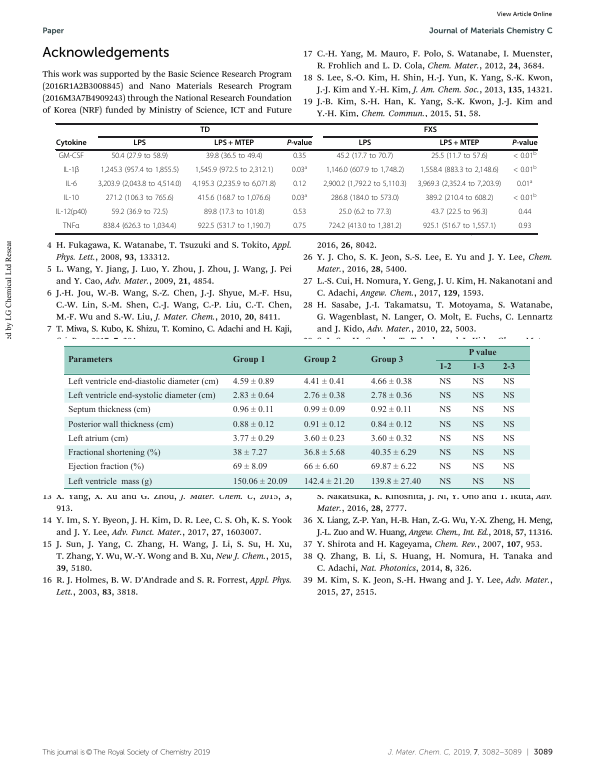borderless: (63, 344, 530, 488), (54, 122, 537, 233)
cell: (66, 377, 219, 387), (66, 391, 216, 401), (66, 420, 174, 430), (66, 448, 161, 458), (66, 405, 151, 416), (191, 180, 277, 190), (322, 180, 408, 190), (66, 477, 152, 487), (66, 462, 144, 473), (97, 180, 182, 190), (417, 180, 502, 190), (100, 166, 180, 176), (194, 166, 274, 176), (325, 166, 405, 176), (419, 166, 499, 176), (197, 194, 272, 204), (102, 222, 177, 232), (197, 222, 272, 232), (327, 222, 402, 232), (422, 222, 497, 232), (105, 194, 175, 204), (330, 194, 400, 204), (424, 194, 494, 204), (203, 208, 265, 218), (66, 434, 128, 444), (110, 152, 169, 162), (430, 152, 489, 162), (110, 208, 169, 218), (430, 208, 489, 218), (205, 152, 263, 162), (336, 152, 394, 162), (232, 477, 288, 487), (338, 208, 392, 218), (370, 462, 417, 473), (303, 477, 354, 487), (370, 477, 421, 487), (370, 448, 417, 458), (232, 405, 274, 416), (303, 405, 345, 416), (370, 405, 412, 416), (67, 356, 113, 366), (213, 139, 255, 149), (232, 377, 274, 387), (303, 377, 345, 387), (370, 377, 412, 387), (232, 391, 274, 401), (303, 391, 345, 401), (370, 391, 412, 401), (232, 420, 274, 430), (303, 420, 345, 430), (370, 420, 412, 430), (232, 434, 274, 444), (303, 434, 345, 444), (370, 434, 412, 444), (303, 448, 345, 458), (439, 139, 480, 149), (232, 462, 268, 473), (303, 462, 339, 473), (232, 448, 268, 458), (369, 356, 404, 366), (232, 356, 266, 366), (303, 356, 337, 366), (55, 208, 88, 218), (55, 139, 87, 149), (467, 349, 497, 359), (512, 151, 537, 162), (512, 165, 537, 176), (512, 193, 537, 204), (286, 139, 313, 149), (511, 139, 538, 149), (58, 152, 85, 162), (291, 165, 308, 176), (516, 179, 533, 190), (291, 193, 308, 204), (62, 166, 80, 176), (62, 222, 80, 232), (63, 194, 80, 204), (438, 405, 452, 416), (471, 405, 485, 416), (438, 462, 452, 473), (471, 462, 485, 473), (132, 139, 147, 149), (292, 152, 307, 162), (292, 180, 307, 190), (292, 208, 307, 218), (517, 208, 532, 218), (292, 222, 307, 232), (517, 222, 532, 232), (502, 405, 515, 416), (502, 462, 515, 473), (358, 139, 372, 149), (64, 180, 78, 190), (438, 363, 452, 373), (471, 363, 485, 373), (501, 363, 515, 373), (438, 377, 452, 387), (471, 377, 485, 387), (438, 391, 452, 401), (471, 391, 485, 401), (438, 420, 452, 430), (471, 420, 485, 430), (438, 434, 452, 444), (471, 434, 485, 444), (438, 448, 452, 458), (471, 448, 485, 458), (438, 477, 452, 487), (471, 477, 485, 487), (423, 126, 438, 135), (502, 377, 515, 387), (502, 391, 515, 401), (502, 420, 515, 430), (502, 434, 515, 444), (502, 448, 515, 458), (502, 477, 515, 487), (199, 126, 211, 135)
